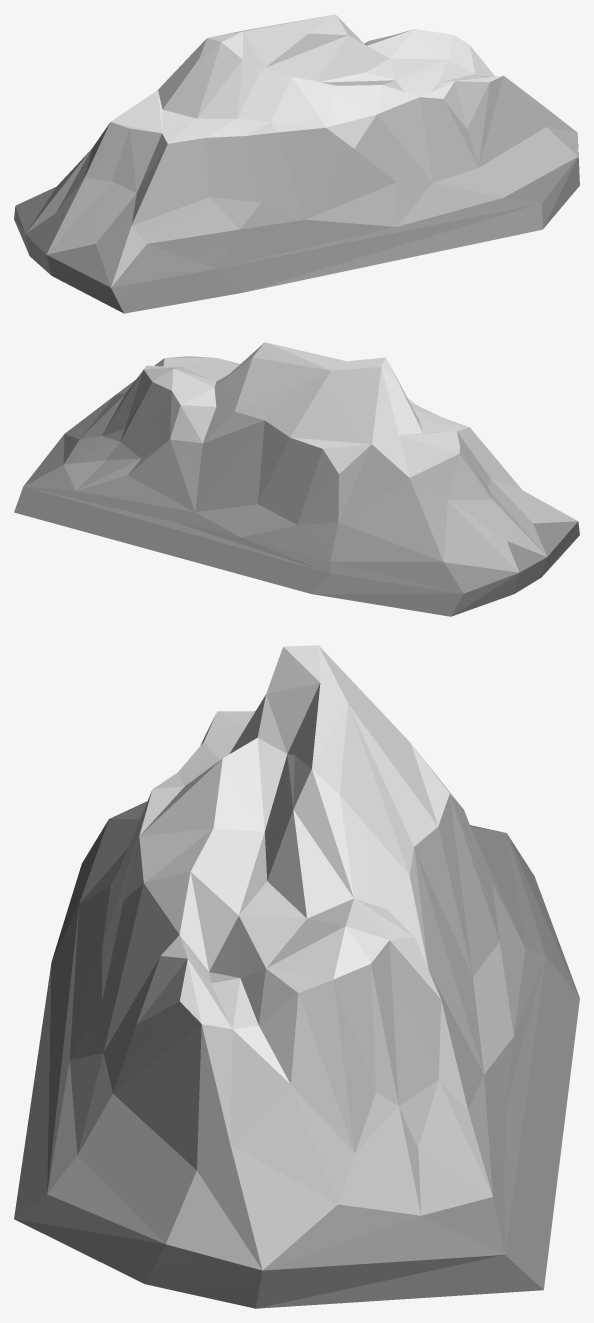
File: mountain_2.fbx
3 renders of one model, top to bottom at view 1: azimuth 30°, elevation 25°; view 2: azimuth 150°, elevation 25°; view 3: azimuth 270°, elevation 25°, orthographic. The views are drawn at different scales.
Visible parts, largest first — view 1: mountain_2; view 2: mountain_2; view 3: mountain_2.
Part boxes in pixels (x1,y1,x2,y2): mountain_2: (14, 14, 579, 313); mountain_2: (14, 342, 579, 616); mountain_2: (14, 645, 579, 1308).
Bounding box in the file's own units: 4496 × 1586 × 2307.
